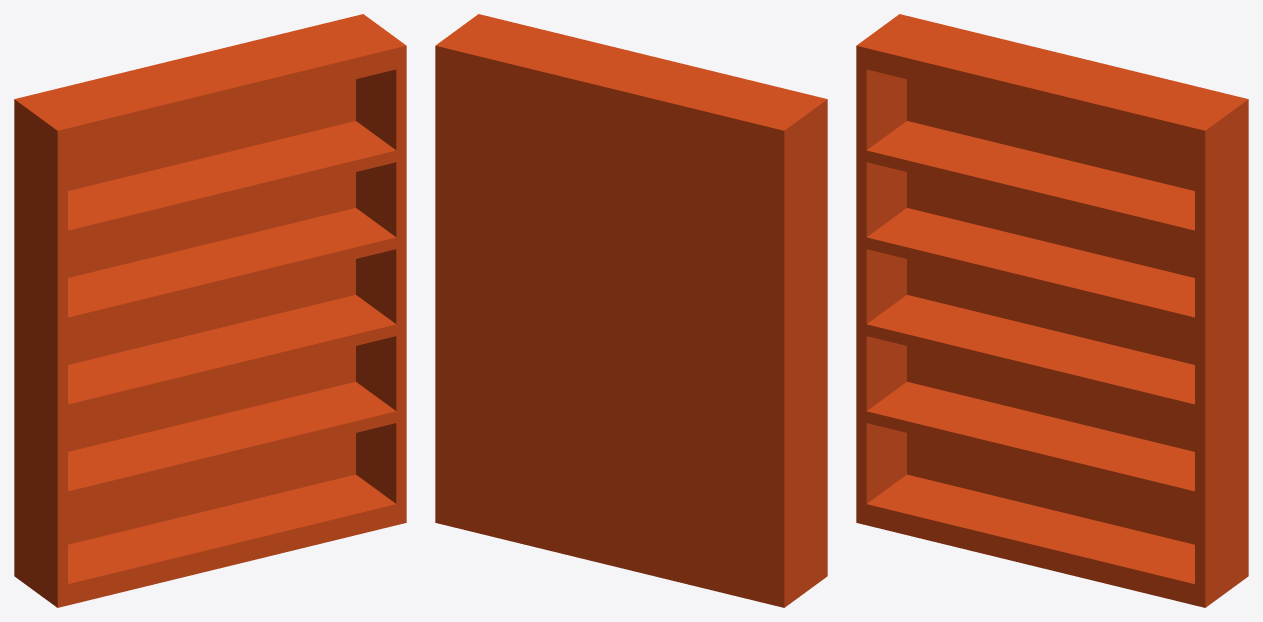
Rendered from Rak 1.fbx.
3 renders of one model, left to right at view 1: azimuth 30°, elevation 25°; view 2: azimuth 150°, elevation 25°; view 3: azimuth 330°, elevation 25°, orthographic.
Parts seen in each view (by area): view 1: Cube.051; view 2: Cube.051; view 3: Cube.051.
Part boxes in pixels (<box>): Cube.051: <box>14,14,406,607</box>; Cube.051: <box>435,14,827,607</box>; Cube.051: <box>856,14,1248,607</box>.
Size of the model in its own units: 219 by 286 by 46.99.
